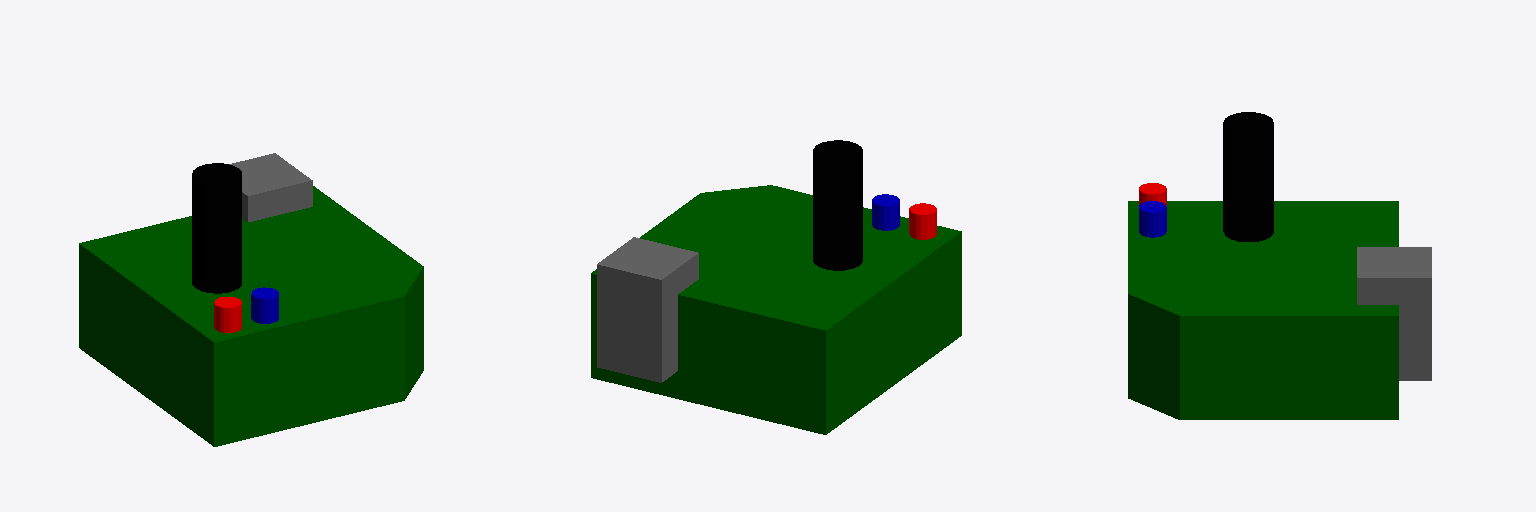
The model's file is cpu.obj.
3 renders of one model, left to right at view 1: azimuth 30°, elevation 25°; view 2: azimuth 150°, elevation 25°; view 3: azimuth 270°, elevation 25°, orthographic.
Visible parts, largest first — view 1: Cylinder_Cylinder.006; view 2: Cylinder_Cylinder.006; view 3: Cylinder_Cylinder.006.
Boxes of the visible parts, <box> form: Cylinder_Cylinder.006: <box>79,153,423,446</box>; Cylinder_Cylinder.006: <box>591,140,961,434</box>; Cylinder_Cylinder.006: <box>1128,112,1431,419</box>.
Size of the model in its own units: 0.9962 by 0.8657 by 1.12.